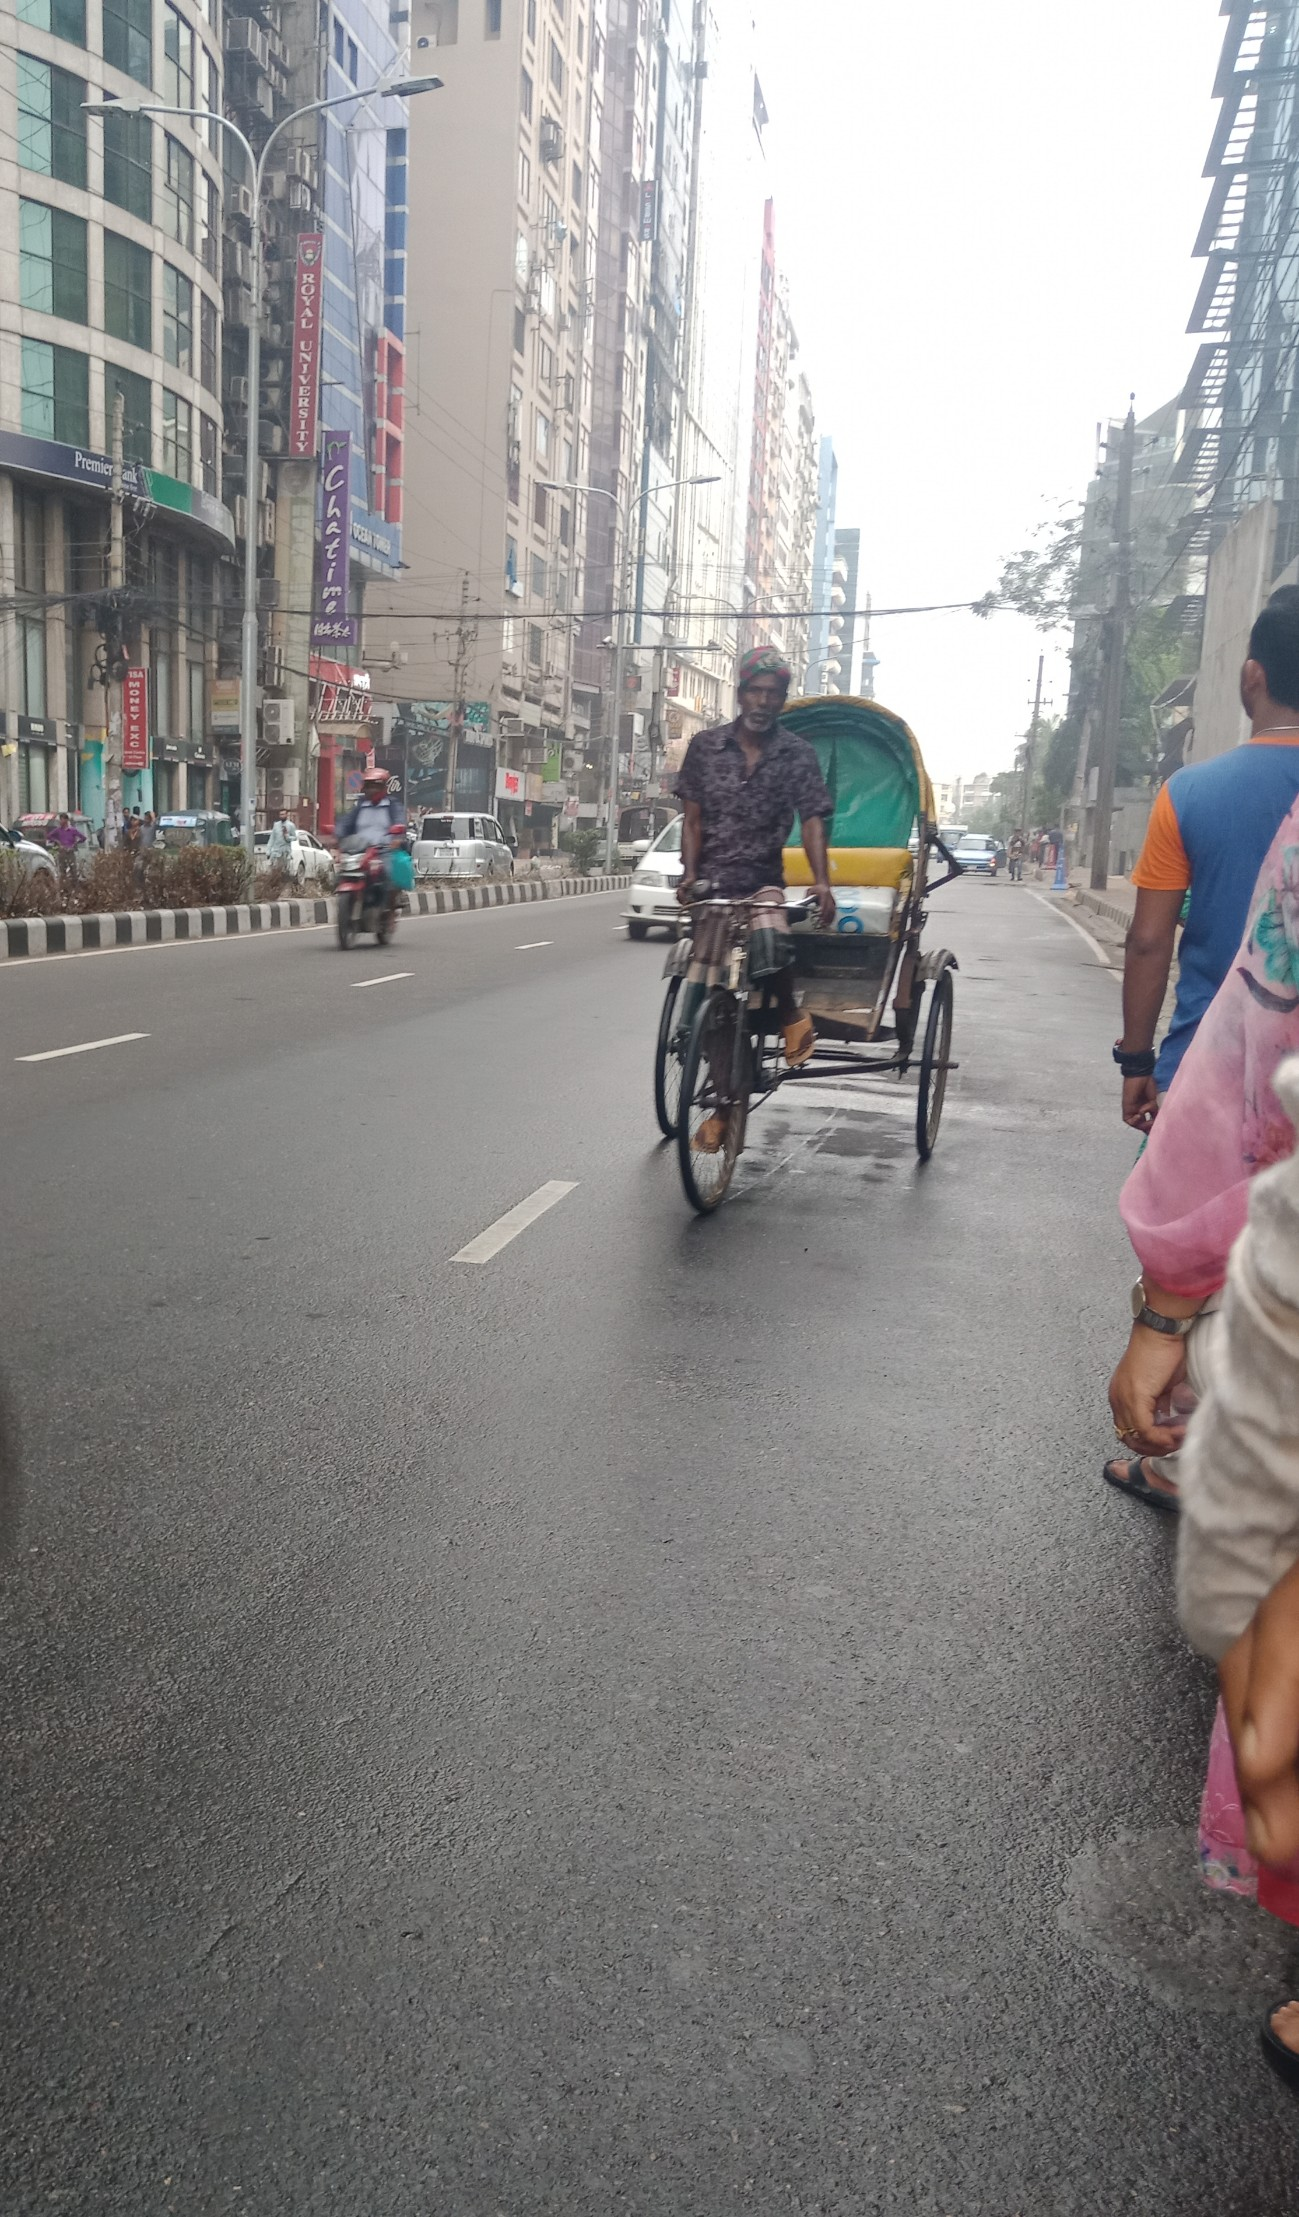Rickshaw: (598, 668, 1004, 1211)
